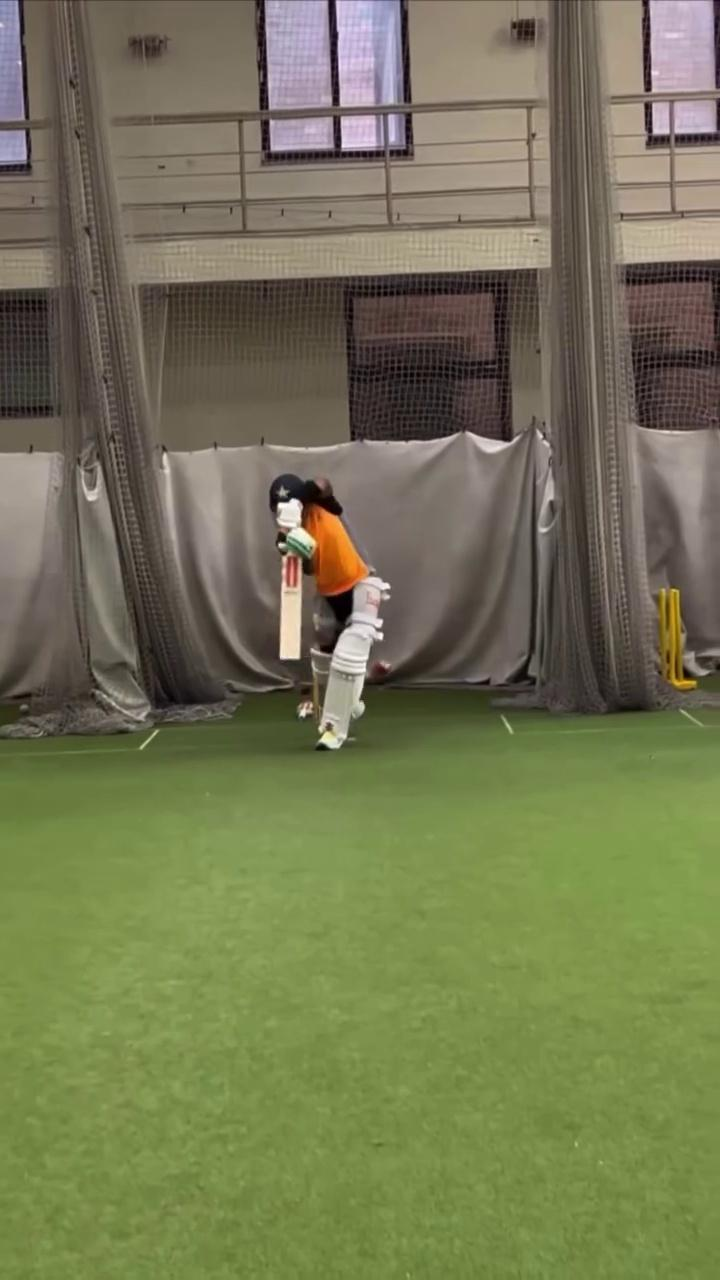bat: (279, 556, 303, 659)
